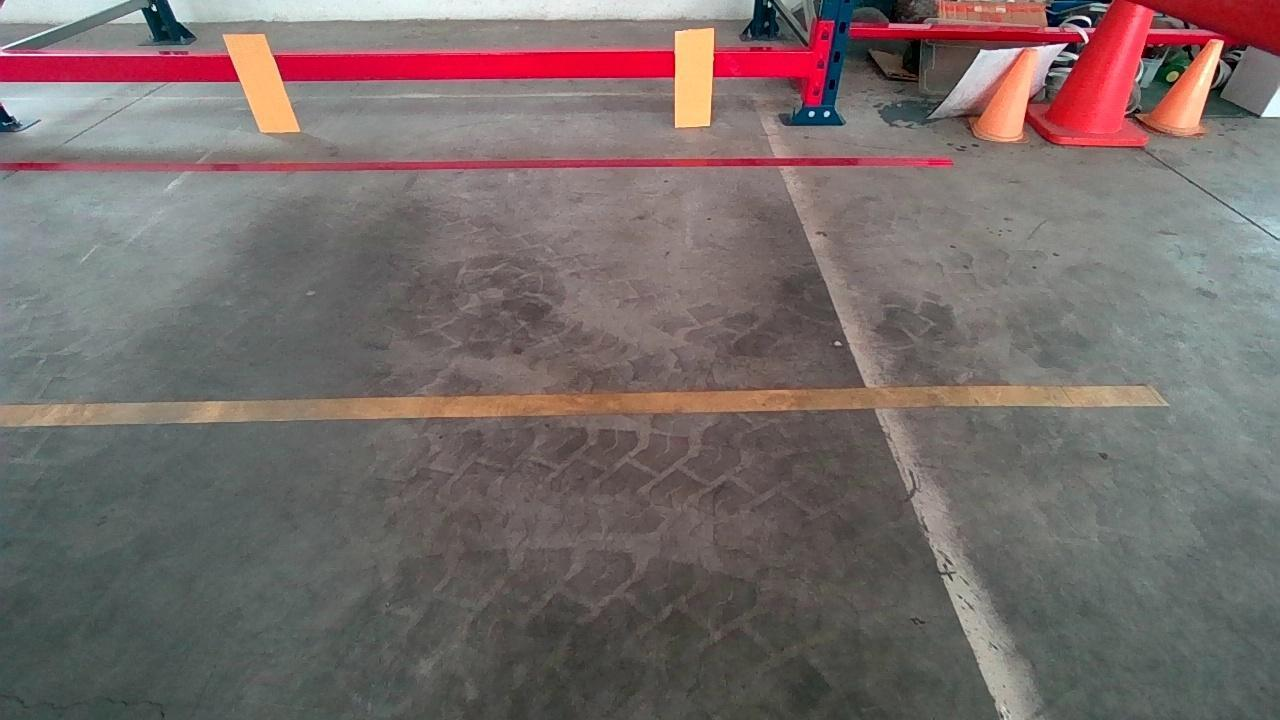h_rack: (9, 38, 812, 86)
orange_strip: (223, 32, 300, 132), (674, 28, 714, 126)
red_line: (14, 152, 926, 175)
yellow_line: (24, 374, 1137, 435)
